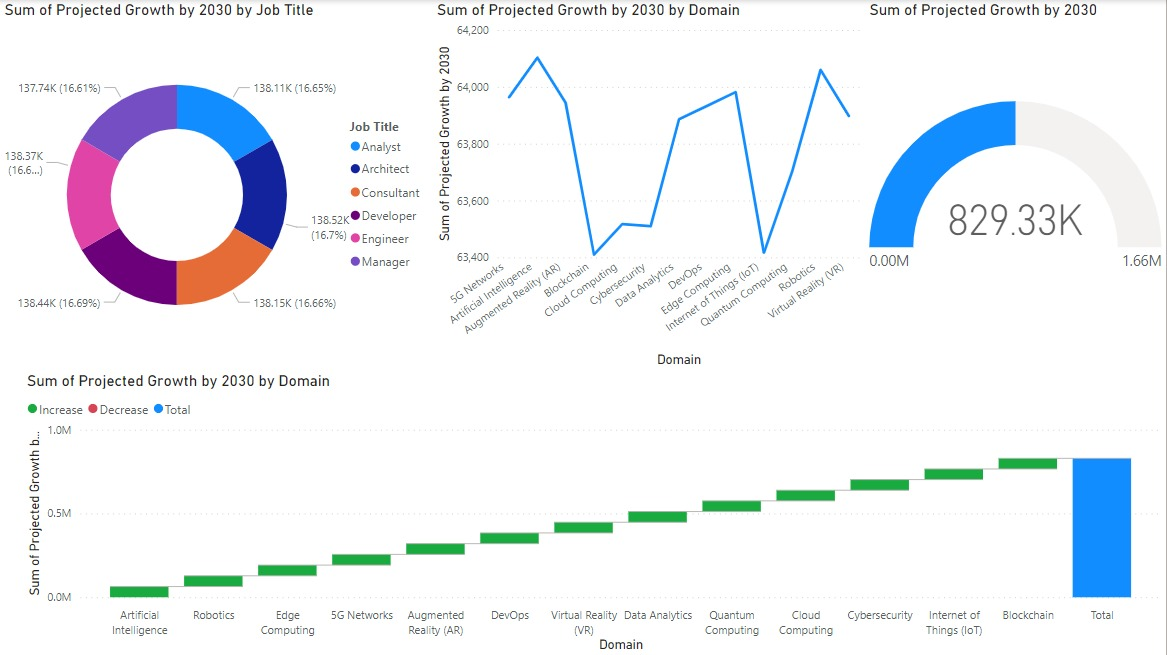

The page's visual inventory and layout, read from the dashboard file:
{"tool":"powerbi","page":{"name":"Page 1","canvas":[1280,720],"ordinal":0},"visuals":[{"type":"donutChart","fields":{"Series":["Dataset.Job Title"],"Y":["Sum(Dataset.Projected Growth by 2030)"]},"box":[0,0,474.8,407.5],"z":0},{"type":"waterfallChart","fields":{"Y":["Sum(Dataset.Projected Growth by 2030)"],"Category":["Dataset.Domain"]},"box":[24.7,407.5,1255.6,312.9],"z":1000},{"type":"lineChart","fields":{"Category":["Dataset.Domain","Dataset.Job Title"],"Y":["Sum(Dataset.Projected Growth by 2030)"]},"box":[474.8,0,474.8,407.5],"z":2000},{"type":"gauge","fields":{"Y":["Sum(Dataset.Projected Growth by 2030)"]},"box":[949.6,0,330.7,395.2],"z":3000}]}

Visuals, with their boxes in screenshot pixels (x1, y1, x2, y2), scaled from the page's 1280x720 canvas onto the 1167x655 screenshot:
donutChart - Dataset.Job Title x Sum(Dataset.Projected Growth by 2030): bbox=(0, 0, 433, 371)
waterfallChart - Sum(Dataset.Projected Growth by 2030) x Dataset.Domain: bbox=(23, 371, 1166, 654)
lineChart - Dataset.Domain x Dataset.Job Title: bbox=(433, 0, 866, 371)
gauge - Sum(Dataset.Projected Growth by 2030): bbox=(866, 0, 1166, 360)
